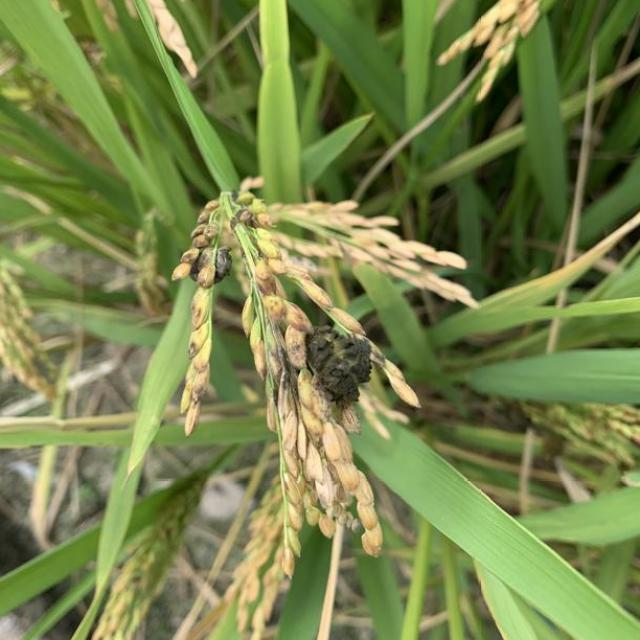Leaf_Scald: (300, 322, 376, 406), (186, 240, 232, 286)
